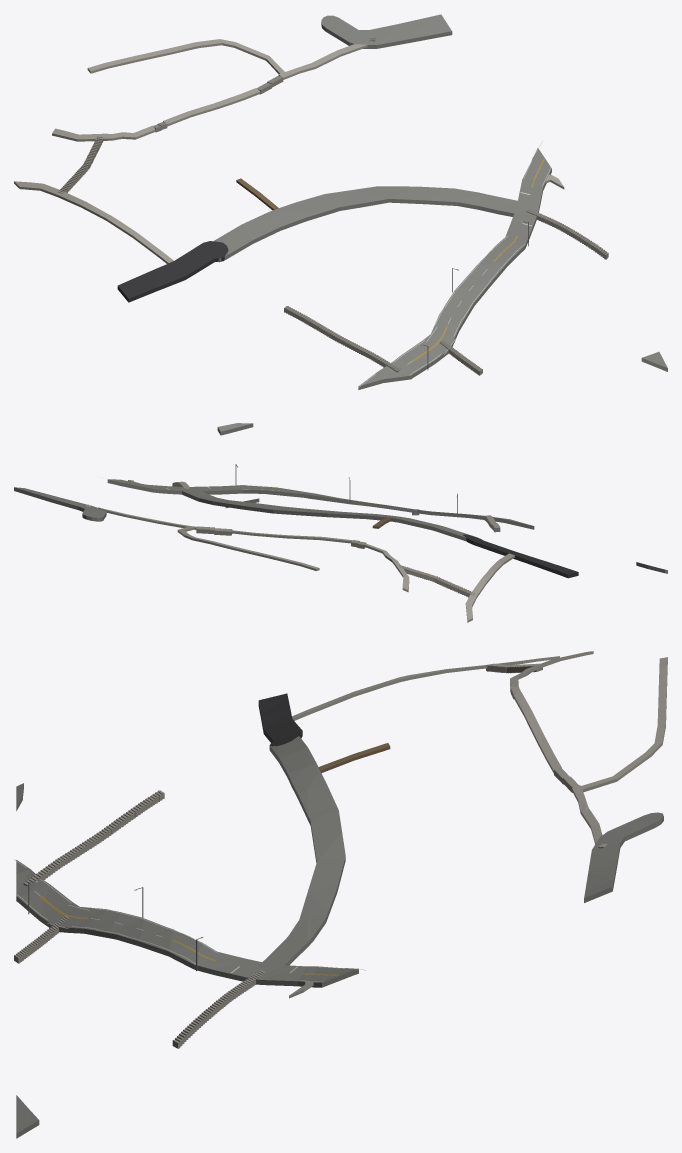
File: 18-218867-118954.336aebd4.glb
3 renders of one model, top to bottom at view 1: azimuth 30°, elevation 25°; view 2: azimuth 150°, elevation 25°; view 3: azimuth 270°, elevation 25°, orthographic. The views are drawn at different scales.
Bounding box in the file's own units: 149 × 64.26 × 141.
